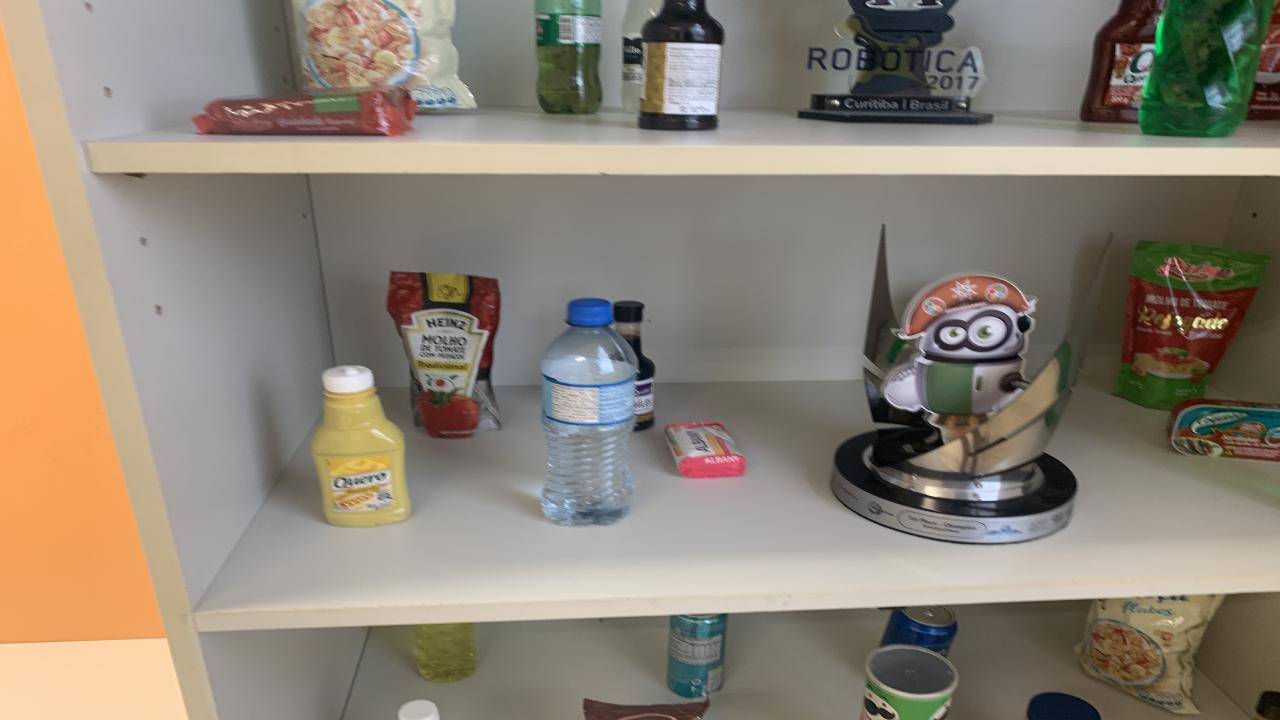Coffee-Pantry_Items: (582, 698, 710, 720)
Detergent-Cleanup_Items: (1138, 0, 1272, 137), (415, 622, 478, 682)
English_Sauce-Pantry_Items: (638, 0, 725, 129), (612, 302, 655, 431)
Flakes-Snacks: (292, 0, 475, 109), (1075, 594, 1225, 714)
Guarana-Drinks: (535, 0, 602, 114)
Guava-Snacks: (192, 86, 418, 135)
Ketchup-Pantry_Items: (1080, 0, 1165, 124)
Mustard-Pantry_Items: (312, 366, 410, 527)
Pringles-Snacks: (860, 645, 958, 720)
Soap-Cleanup_Items: (665, 422, 745, 478)
Soda-Drinks: (622, 0, 662, 112)
Tea-Drinks: (668, 613, 728, 698)
Tomato_Sauce-Pantry_Items: (1112, 242, 1270, 409), (388, 272, 500, 439)
Tonic-Drinks: (880, 606, 958, 656)
Trophy-Miscellaneous: (798, 0, 992, 124)
Tuna_Can-Pantry_Items: (1170, 399, 1280, 461)
Water_Bottle-Drinks: (542, 298, 638, 525)
